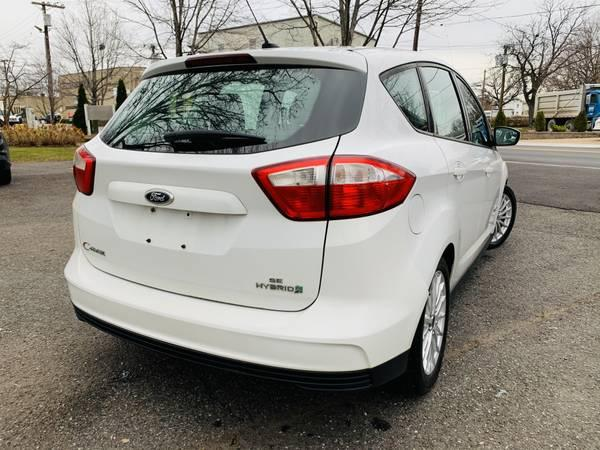Front_Right_Door: (478, 148, 503, 246)
Front_Right_Window: (453, 69, 495, 147)
Left_Taillight: (72, 146, 97, 200)
Rear_Bumper: (64, 203, 437, 384)
Rear_Fender: (335, 116, 447, 248)
Rear_Right_Door: (430, 140, 484, 287)
Rear_Right_Window: (381, 62, 469, 141)
Rear_Windshield: (100, 63, 365, 155)
Right_Taillight: (250, 158, 417, 224)
Roof: (144, 47, 445, 129)
Tailgate: (74, 135, 337, 312)
Wheel: (414, 266, 449, 383), (487, 185, 515, 247)
